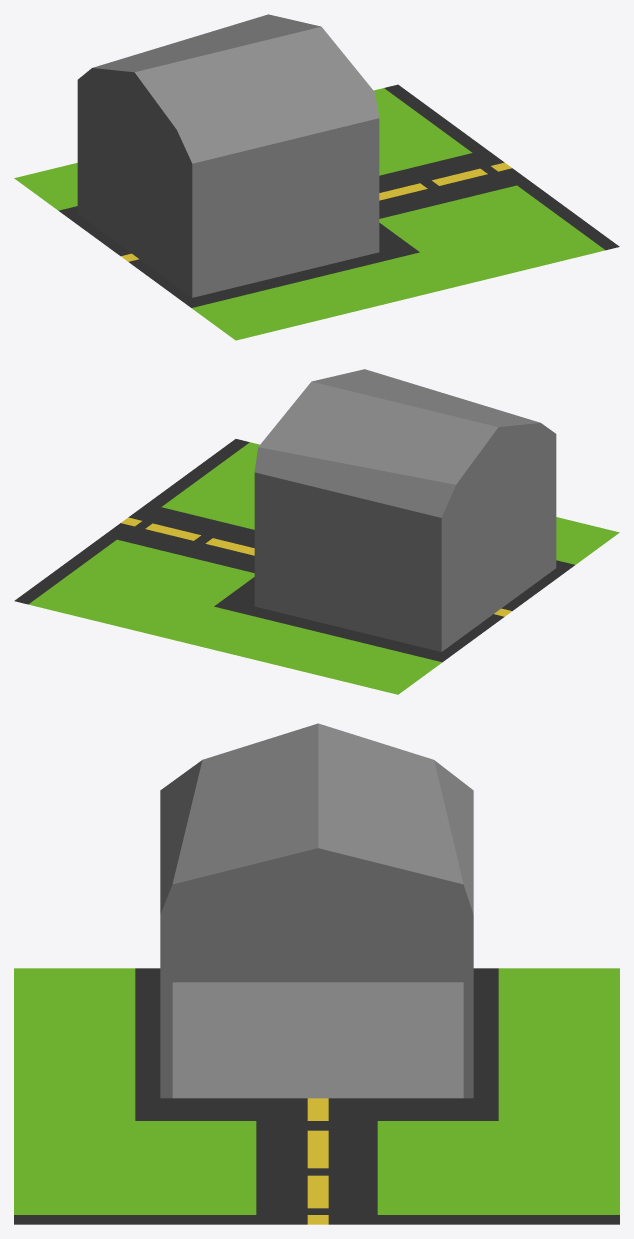
File: Hangar.fbx
3 renders of one model, top to bottom at view 1: azimuth 30°, elevation 25°; view 2: azimuth 150°, elevation 25°; view 3: azimuth 270°, elevation 25°, orthographic. The views are drawn at different scales.
Visible parts, largest first — view 1: Cube, Plane; view 2: Cube, Plane; view 3: Plane, Cube.
Part boxes in pixels (x1,y1,x2,y2): Cube: (77,14,379,297); Plane: (14,84,619,340); Cube: (254,369,556,651); Plane: (14,439,619,694); Plane: (14,968,619,1224); Cube: (160,723,473,1098).
Size of the model in its own units: 20000 by 9170 by 20000.
